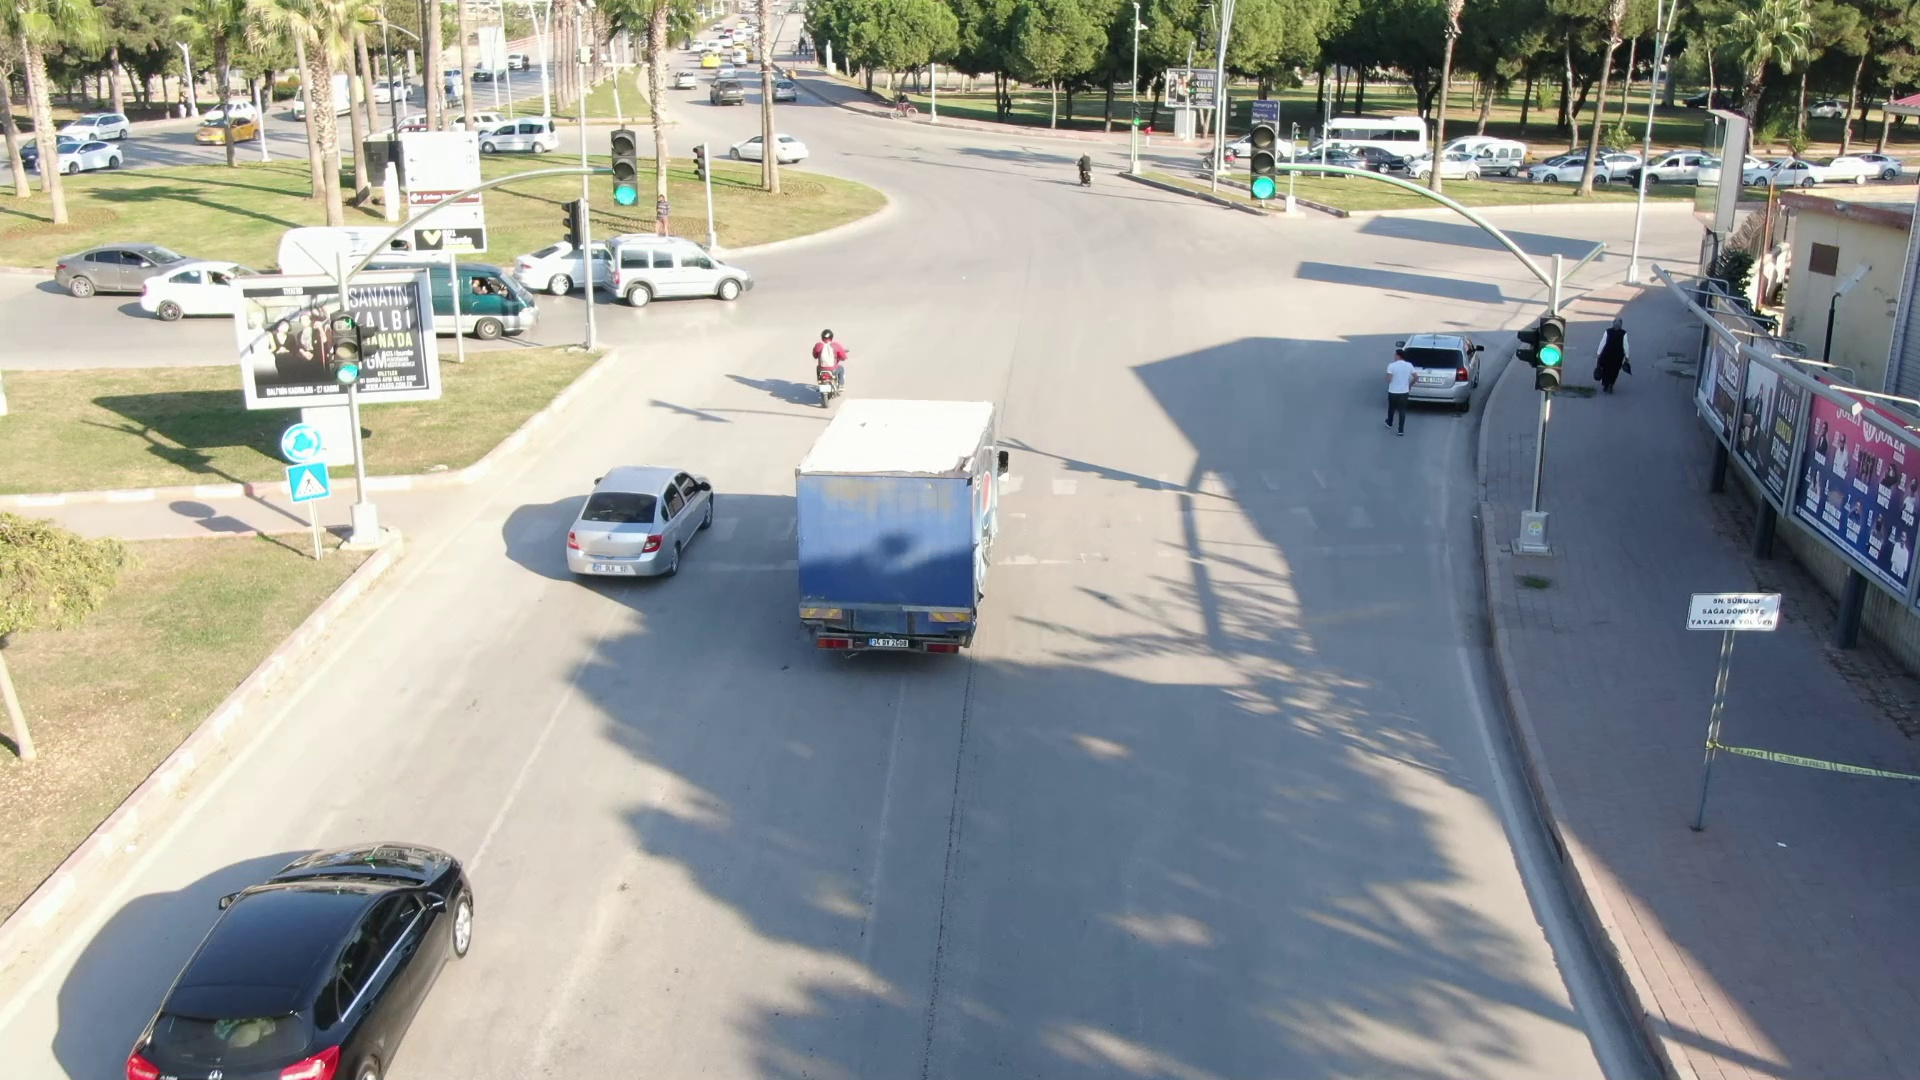car: (127, 799, 486, 1080), (556, 437, 726, 593), (601, 229, 763, 306), (46, 235, 197, 302), (718, 126, 820, 174), (28, 136, 128, 177), (478, 112, 565, 155)
person: (1592, 308, 1637, 406), (1380, 343, 1421, 441), (804, 320, 845, 371)
